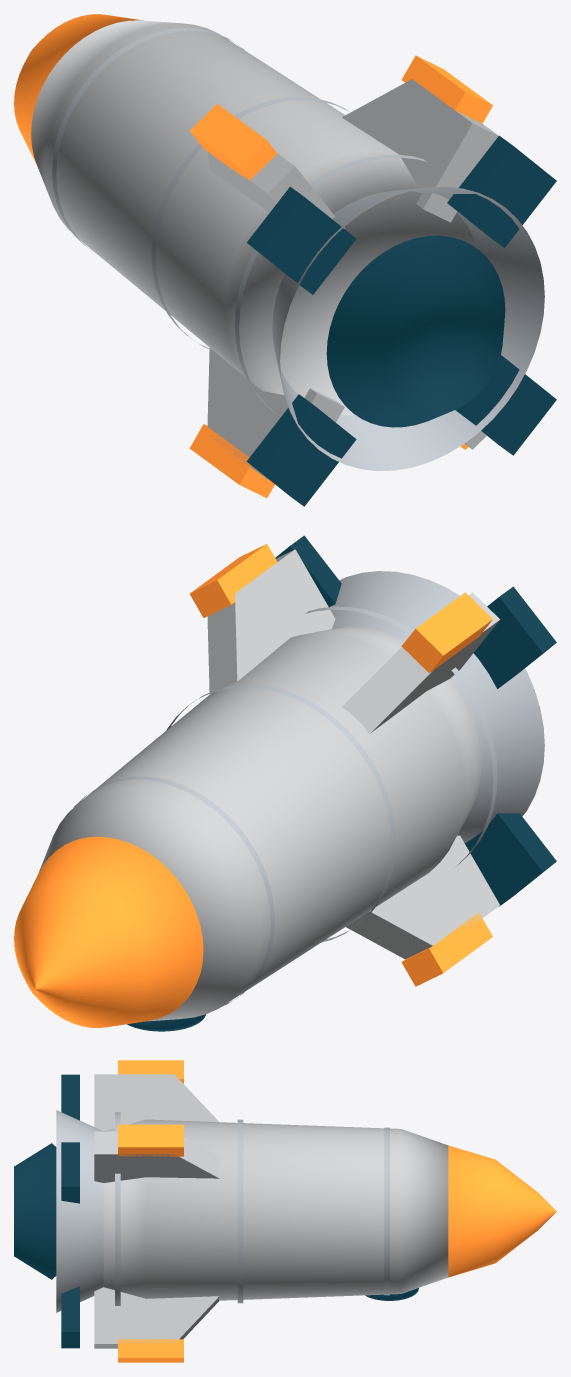
The model's file is launch3001-rocket.glb.
3 views of the same model, one above another, from view 1: azimuth 30°, elevation 25°; view 2: azimuth 150°, elevation 25°; view 3: azimuth 270°, elevation 25° (orthographic). The views are drawn at different scales.
Visible parts, largest first — view 1: short rounded fuselage, central engine bell, engine skirt, swept stabilizer, recessed landing pad.002, recessed landing pad, recessed landing pad.003, swept stabilizer.002, recessed landing pad.001, orange nose cone, swept stabilizerOrangeTip.003, swept stabilizer.003 (+5 smaller); view 2: short rounded fuselage, orange nose cone, engine skirt, swept stabilizer, swept stabilizer.002, swept stabilizer.003, recessed landing pad.002, recessed landing pad.003, swept stabilizerOrangeTip.003, swept stabilizerOrangeTip.002, swept stabilizerOrangeTip, mid seam (+4 smaller); view 3: short rounded fuselage, orange nose cone, engine skirt, swept stabilizer.001, swept stabilizer.003, central engine bell, swept stabilizer, swept stabilizerOrangeTip, swept stabilizerOrangeTip.001, mid seam, recessed landing pad, recessed landing pad.001 (+4 smaller).
Boxes of the visible parts, <box> form: short rounded fuselage: <box>31,20,477,415</box>; central engine bell: <box>326,235,505,427</box>; engine skirt: <box>272,186,544,471</box>; swept stabilizer: <box>342,79,498,222</box>; recessed landing pad.002: <box>247,394,356,506</box>; recessed landing pad: <box>447,135,556,247</box>; recessed landing pad.003: <box>246,186,356,294</box>; swept stabilizer.002: <box>207,348,344,480</box>; recessed landing pad.001: <box>455,355,556,455</box>; orange nose cone: <box>14,14,143,164</box>; swept stabilizerOrangeTip.003: <box>190,104,277,180</box>; swept stabilizer.003: <box>207,151,344,228</box>; short rounded fuselage: <box>38,627,481,1021</box>; orange nose cone: <box>14,836,203,1027</box>; engine skirt: <box>329,571,544,842</box>; swept stabilizer: <box>207,549,335,694</box>; swept stabilizer.002: <box>346,835,500,959</box>; swept stabilizer.003: <box>342,592,499,733</box>; recessed landing pad.002: <box>465,813,556,906</box>; recessed landing pad.003: <box>473,586,556,688</box>; swept stabilizerOrangeTip.003: <box>401,592,492,673</box>; swept stabilizerOrangeTip.002: <box>401,913,492,986</box>; swept stabilizerOrangeTip: <box>190,544,277,617</box>; mid seam: <box>166,684,395,942</box>; short rounded fuselage: <box>103,1119,448,1300</box>; orange nose cone: <box>448,1145,556,1277</box>; engine skirt: <box>56,1110,103,1312</box>; swept stabilizer.001: <box>94,1287,219,1348</box>; swept stabilizer.003: <box>94,1074,219,1131</box>; central engine bell: <box>14,1143,56,1279</box>; swept stabilizer: <box>94,1131,219,1182</box>; swept stabilizerOrangeTip: <box>118,1124,183,1156</box>; swept stabilizerOrangeTip.001: <box>118,1339,183,1362</box>; mid seam: <box>237,1119,243,1303</box>; recessed landing pad: <box>61,1142,79,1203</box>; recessed landing pad.001: <box>61,1286,79,1348</box>.
Bounding box in the file's own units: 0.9617 × 1.11 × 2.3.
